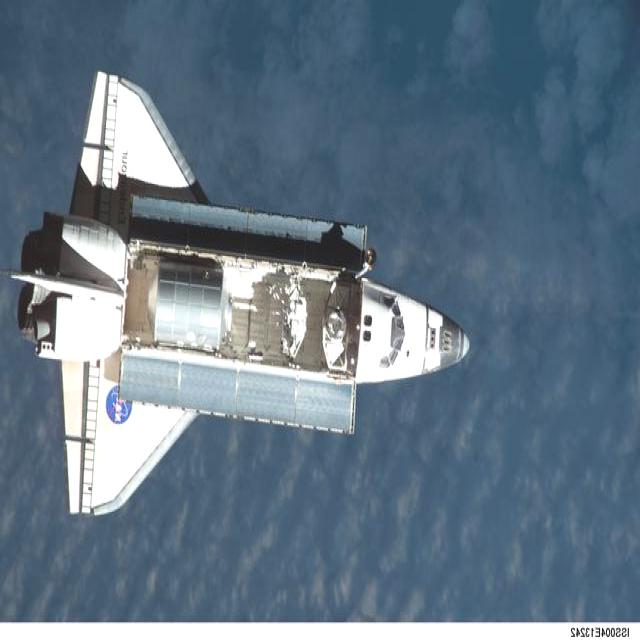satellite: (24, 74, 470, 512)
